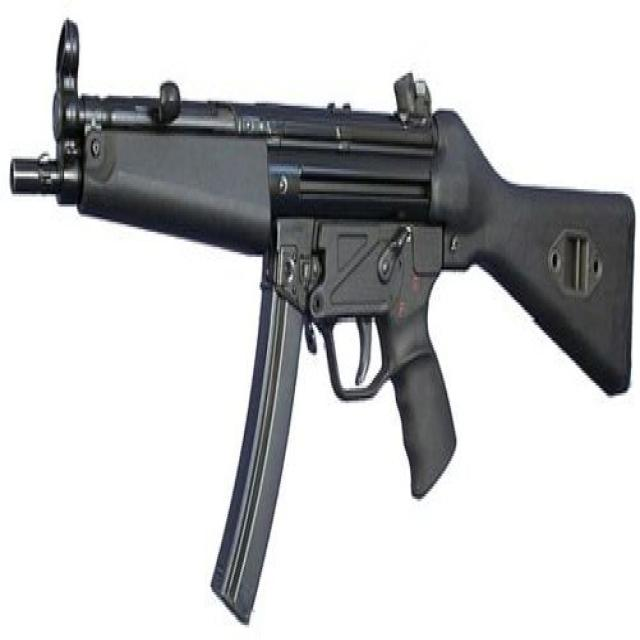SMG: (11, 20, 640, 627)
